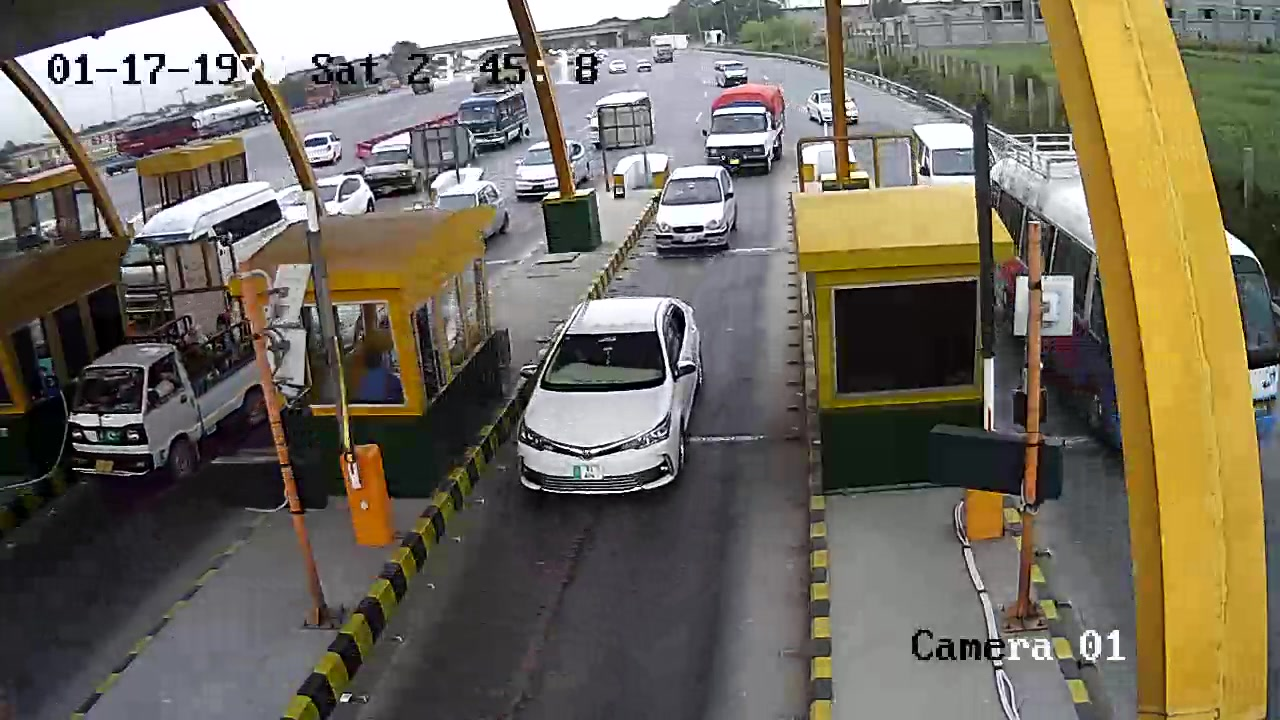F1: (508, 296, 718, 510), (638, 158, 744, 267)
